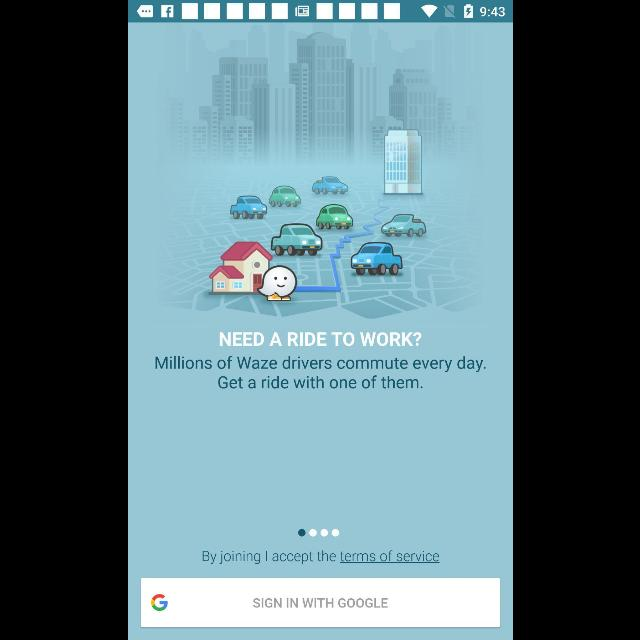image: (156, 24, 474, 318)
pageindicator: (297, 529, 339, 537)
text: (154, 356, 486, 390), (202, 550, 438, 566), (219, 332, 421, 346)
textbutton: (140, 578, 500, 628)
uppertaskbar: (128, 1, 512, 23)
